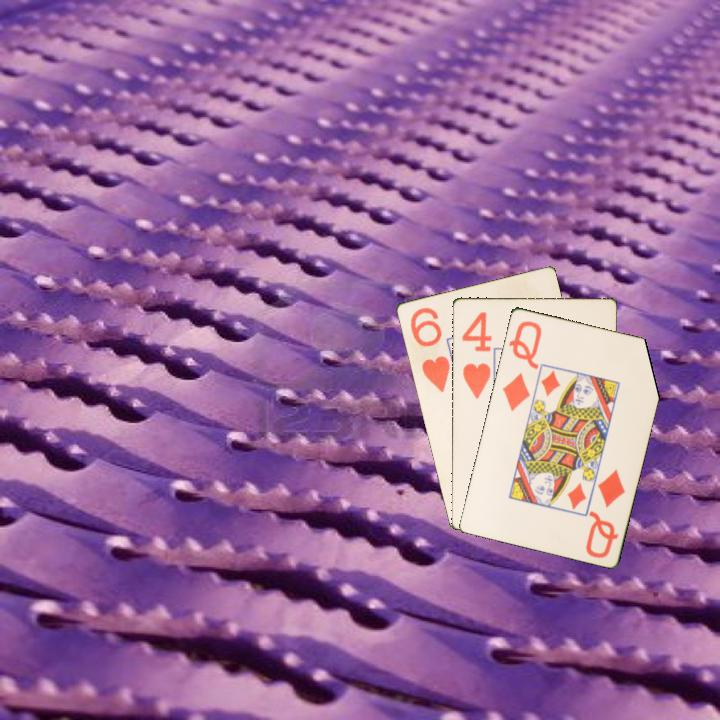4h: (458, 308, 493, 401)
6h: (406, 304, 452, 395)
Qd: (498, 317, 544, 414), (582, 465, 628, 561)
